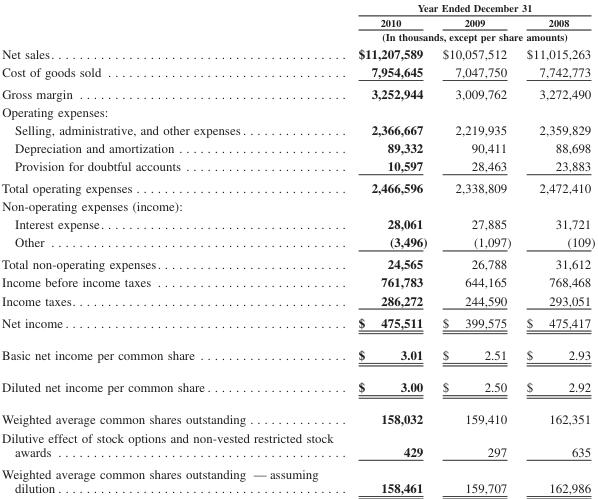table: (1, 0, 594, 496)
table column: (1, 0, 345, 496), (345, 0, 434, 496), (434, 0, 518, 496), (518, 0, 594, 496)
table column header: (1, 0, 594, 43)
table projected row header: (1, 102, 594, 120), (1, 196, 594, 214)
table row: (1, 427, 594, 462), (1, 462, 594, 496), (1, 338, 594, 370), (1, 370, 594, 402), (1, 310, 594, 338), (1, 402, 594, 427), (1, 62, 594, 82), (1, 82, 594, 102), (1, 156, 594, 176), (1, 176, 594, 196), (1, 232, 594, 252), (1, 252, 594, 272), (1, 290, 594, 310), (1, 43, 594, 62), (1, 102, 594, 120), (1, 120, 594, 138), (1, 138, 594, 156), (1, 196, 594, 214), (1, 214, 594, 232), (1, 272, 594, 290), (1, 28, 594, 43), (1, 0, 594, 14), (1, 14, 594, 28)
table spanning cell: (345, 28, 594, 43), (345, 0, 594, 14)
